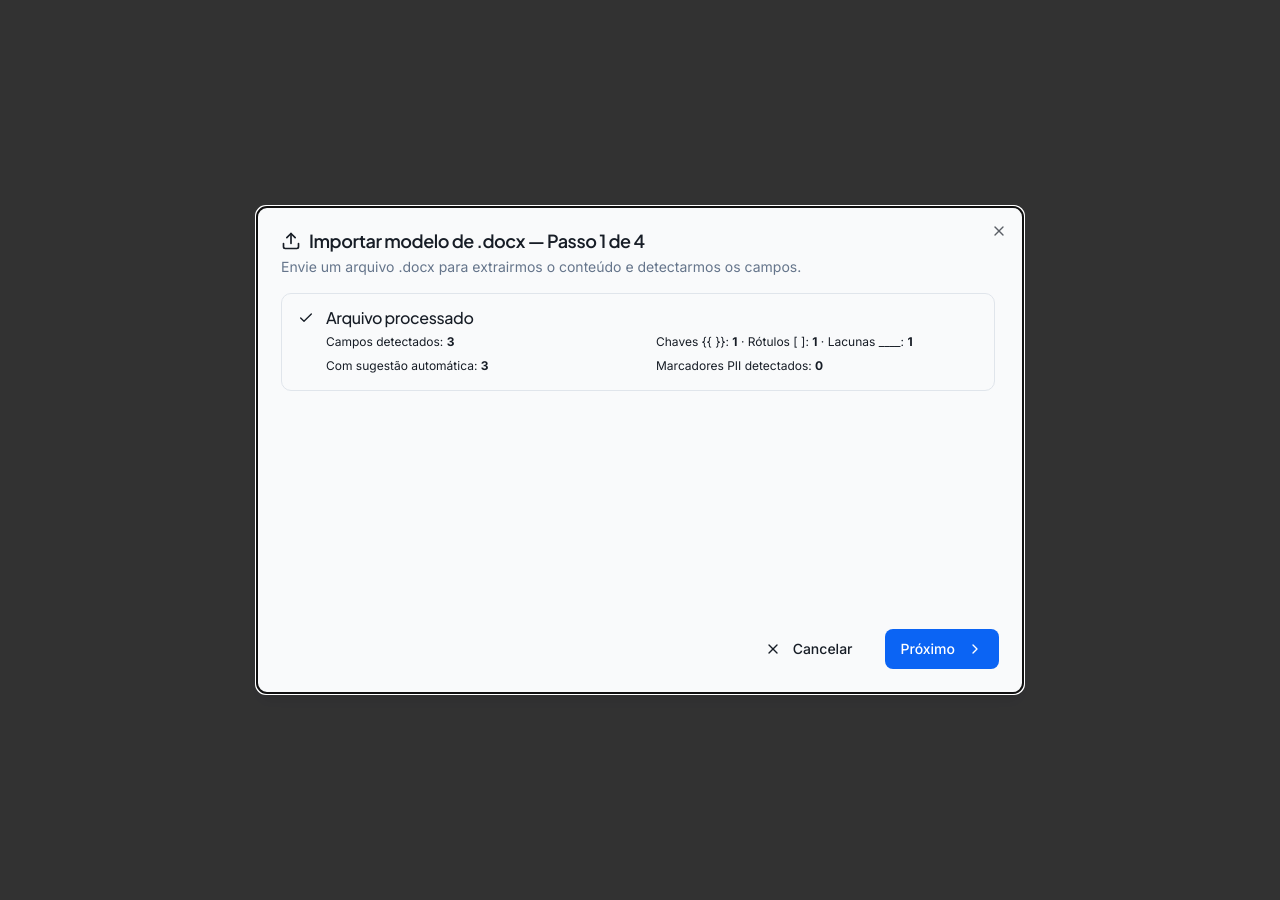
Scenario: ImportDocxDialog — tela de mapeamento › caminho feliz: 3 sintaxes detectadas, tudo exact/high nasce mapeado e o avanço fica livre
Earlier steps of the test are not shown.
Expected: the heading "Arquivo processado" is shown, [326, 307, 474, 328]
Click the button "Próximo": (942, 649) [884, 629, 999, 669]
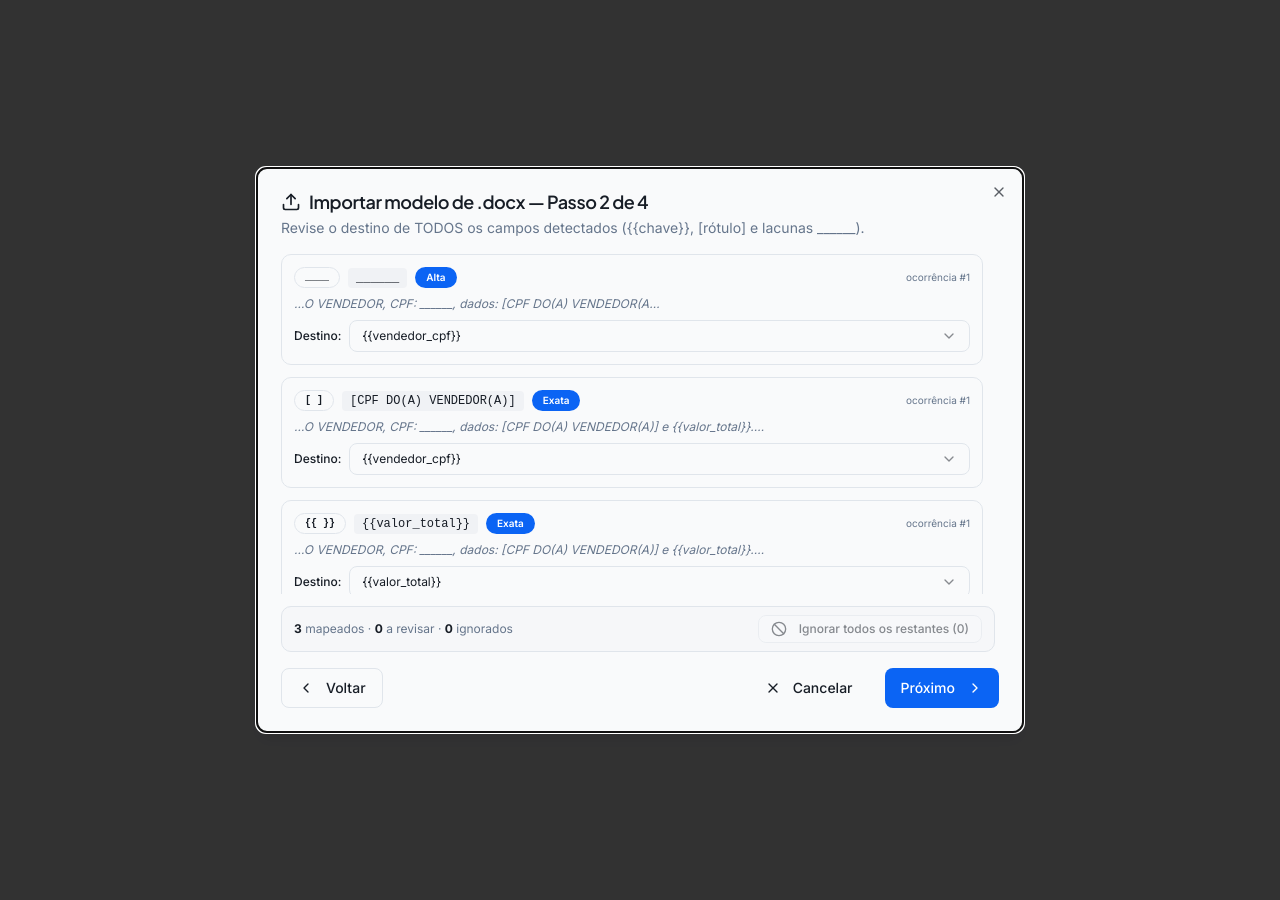
Expected: the button "Próximo" is enabled, [884, 668, 999, 708]
Now the text "3 mapeados · 0 a revisar · 0 ignorados" is shown, box [294, 621, 513, 637]
Now the button "Ignorar todos os restantes (0)" is disabled, box [758, 615, 982, 643]
